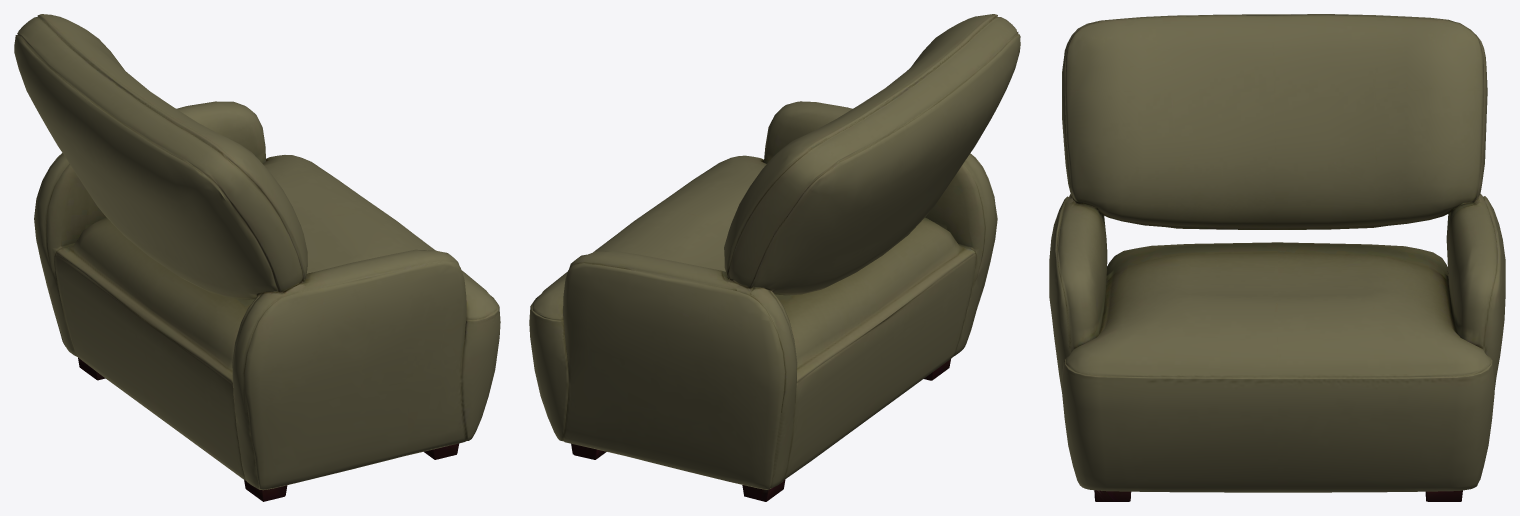
The model's file is couch.glb.
The picture shows the model from 3 angles, left to right: view 1: azimuth 30°, elevation 25°; view 2: azimuth 150°, elevation 25°; view 3: azimuth 270°, elevation 25°; orthographic projection.
Parts seen in each view (by area): view 1: tripo_node_3b93240a-8747-4d7f-8528-c3a58d9eb194; view 2: tripo_node_3b93240a-8747-4d7f-8528-c3a58d9eb194; view 3: tripo_node_3b93240a-8747-4d7f-8528-c3a58d9eb194.
Boxes of the visible parts, x1,y1,x2,y2 form: tripo_node_3b93240a-8747-4d7f-8528-c3a58d9eb194: [14, 14, 500, 501]; tripo_node_3b93240a-8747-4d7f-8528-c3a58d9eb194: [529, 14, 1020, 501]; tripo_node_3b93240a-8747-4d7f-8528-c3a58d9eb194: [1049, 14, 1505, 501].
Size of the model in its own units: 0.8223 by 0.8848 by 0.998.
Materials: 1 (1 with a texture image).
